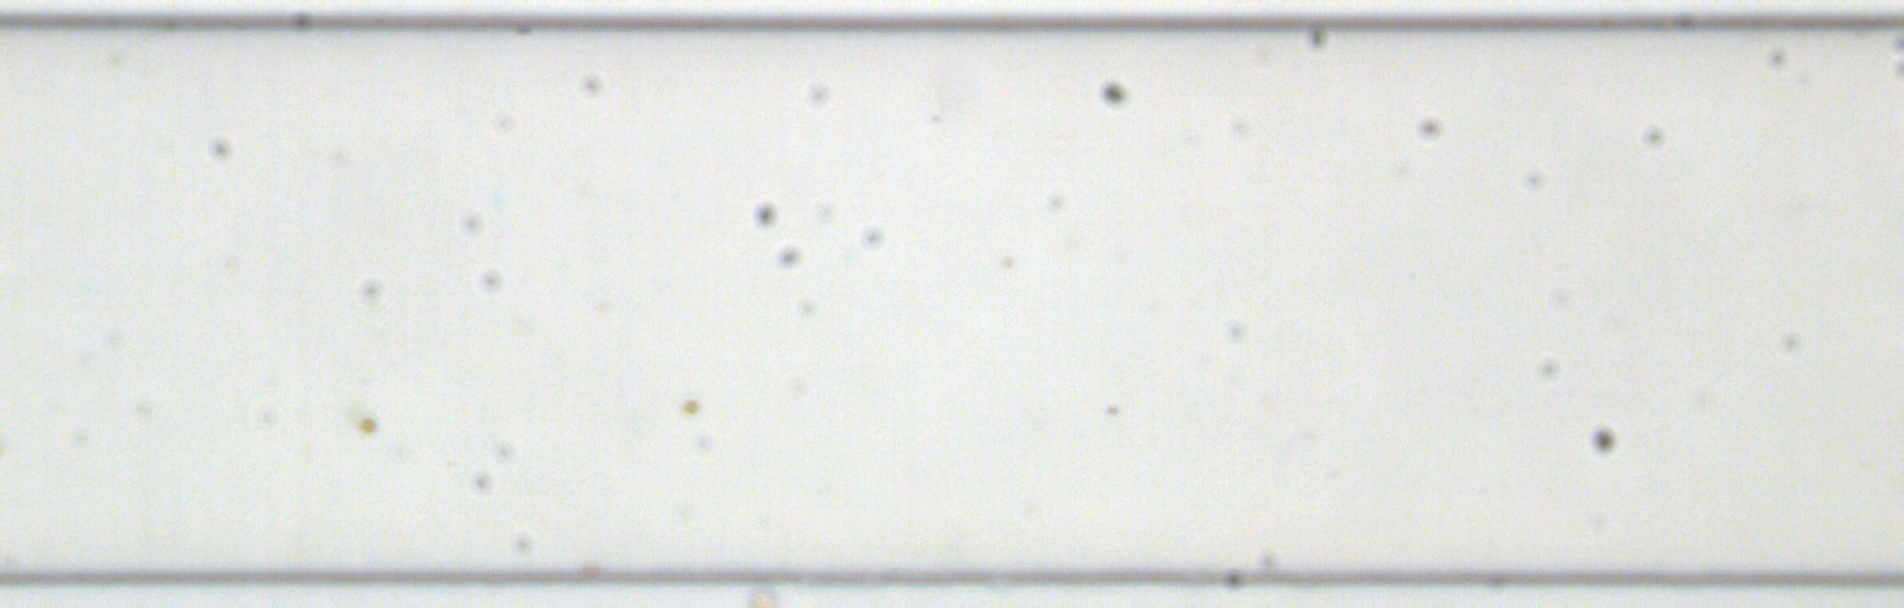Chlorella: (358, 415, 380, 434), (682, 397, 699, 414), (998, 252, 1014, 269)
